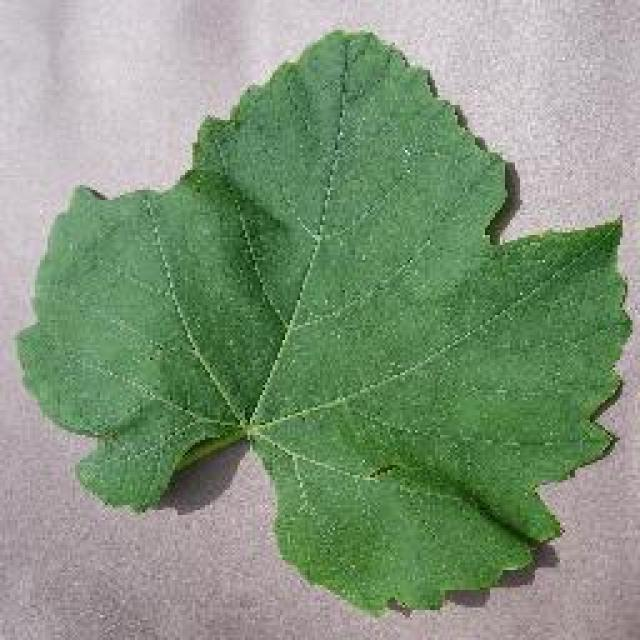Healthy: (32, 22, 640, 620)
